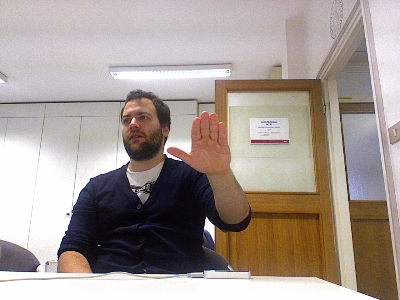布: (165, 109, 232, 172)
